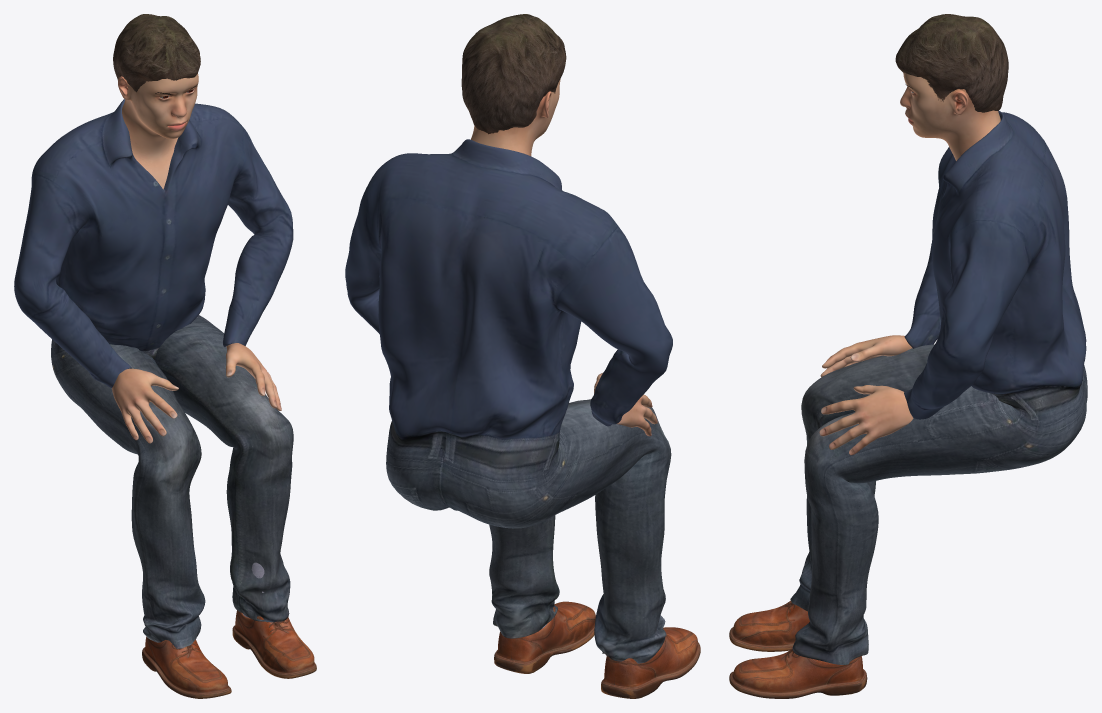
File: physician-seated.glb
The picture shows the model from 3 angles, left to right: view 1: azimuth 30°, elevation 25°; view 2: azimuth 150°, elevation 25°; view 3: azimuth 270°, elevation 25°; orthographic projection. The views are drawn at different scales.
Parts seen in each view (by area): view 1: Physician_Body.male_casualsuit01, Physician_Body, Physician_Body.shoes01, Physician_Body.short02; view 2: Physician_Body.male_casualsuit01, Physician_Body.short02, Physician_Body.shoes01, Physician_Body; view 3: Physician_Body.male_casualsuit01, Physician_Body, Physician_Body.shoes01, Physician_Body.short02.
Part boxes in pixels (left/top/right/bottom): Physician_Body.male_casualsuit01: left=14, top=99, right=293, bottom=648; Physician_Body: left=112, top=73, right=281, bottom=443; Physician_Body.shoes01: left=142, top=562, right=316, bottom=698; Physician_Body.short02: left=113, top=14, right=200, bottom=92; Physician_Body.male_casualsuit01: left=345, top=139, right=672, bottom=663; Physician_Body.short02: left=461, top=14, right=566, bottom=134; Physician_Body.shoes01: left=494, top=601, right=700, bottom=698; Physician_Body: left=471, top=79, right=657, bottom=436; Physician_Body.male_casualsuit01: left=790, top=110, right=1087, bottom=664; Physician_Body: left=819, top=73, right=1000, bottom=455; Physician_Body.shoes01: left=729, top=600, right=867, bottom=698; Physician_Body.short02: left=895, top=14, right=1008, bottom=112.
Bounding box in the file's own units: 0.6518 × 1.37 × 0.6907.
Materials: 6 (6 with a texture image).
